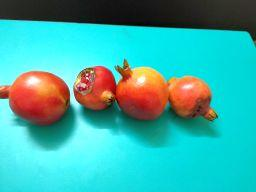pomegranate: (0, 71, 71, 126), (114, 58, 169, 121), (166, 76, 219, 123), (73, 66, 116, 110)
